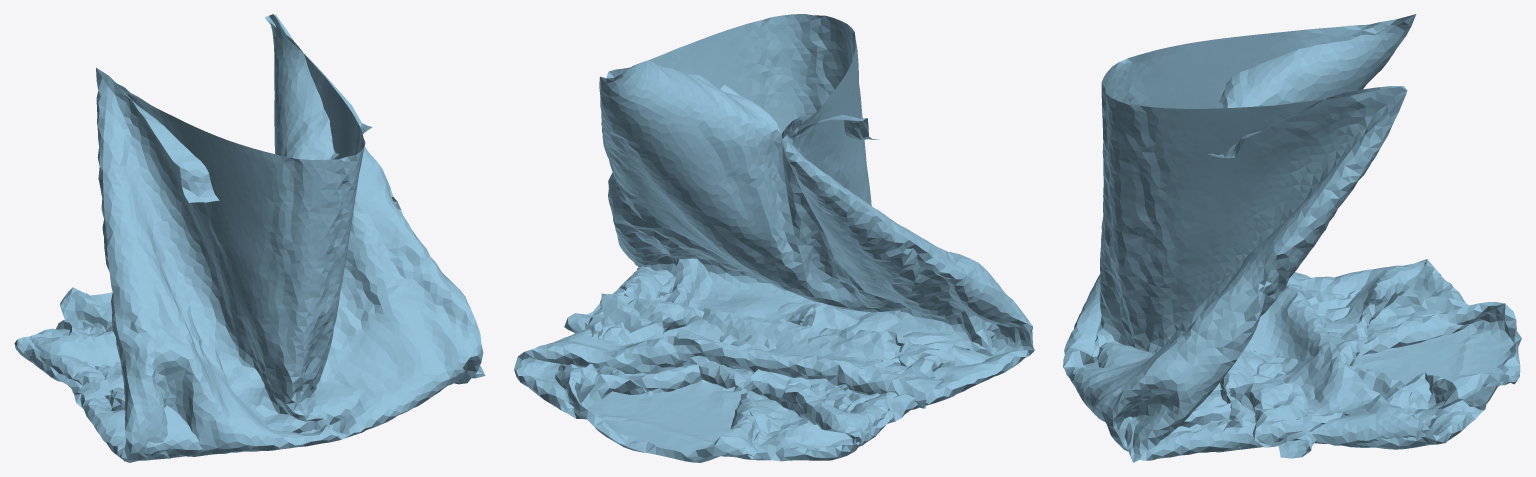
Rendered from frame_16.glb.
3 renders of one model, left to right at view 1: azimuth 30°, elevation 25°; view 2: azimuth 150°, elevation 25°; view 3: azimuth 270°, elevation 25°, orthographic. The views are drawn at different scales.
Visible parts, largest first — view 1: frame_16.obj; view 2: frame_16.obj; view 3: frame_16.obj.
Boxes of the visible parts, x1=… form: frame_16.obj: x1=14, y1=14, x2=485, y2=462; frame_16.obj: x1=514, y1=14, x2=1034, y2=462; frame_16.obj: x1=1063, y1=14, x2=1521, y2=462.
Size of the model in its own units: 0.9306 by 0.724 by 0.9096.
